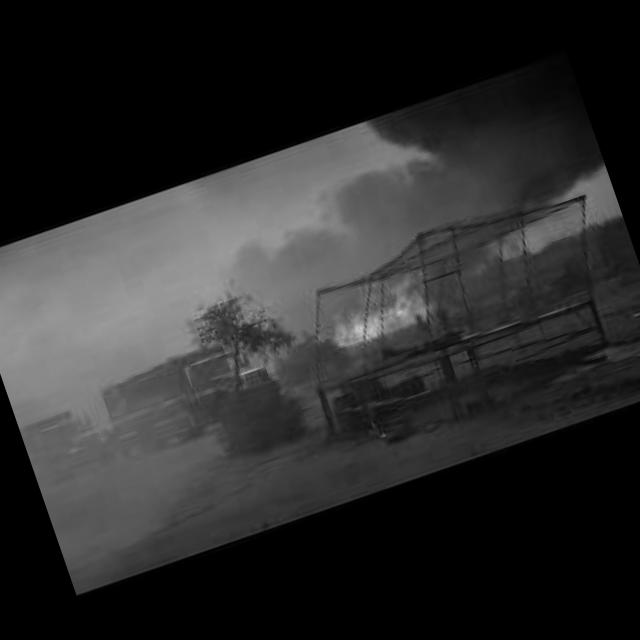fire: (306, 252, 450, 358)
smoke: (182, 49, 623, 348)
